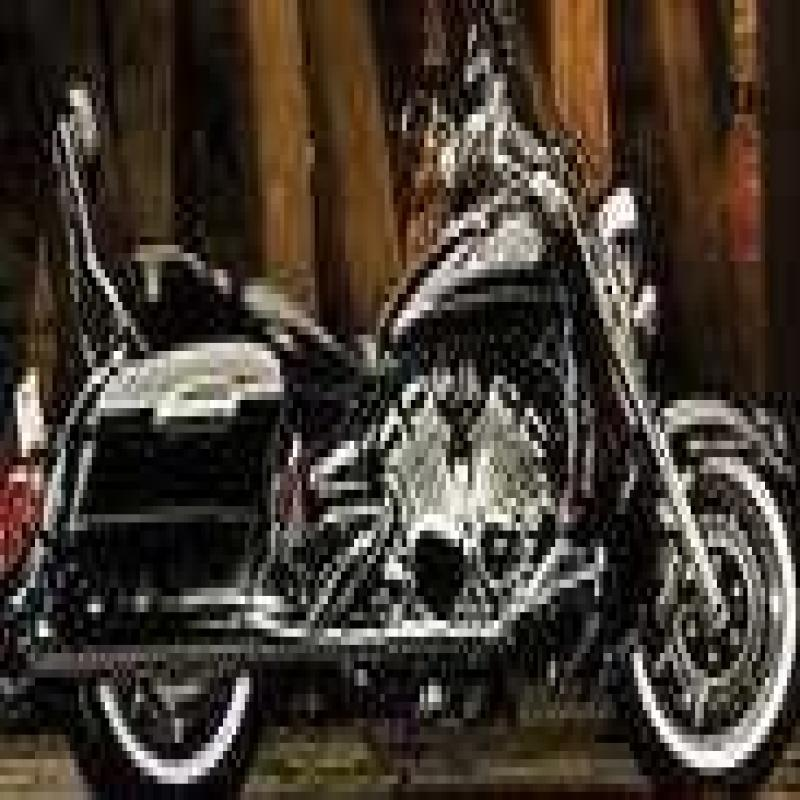bike: (5, 16, 800, 785)
